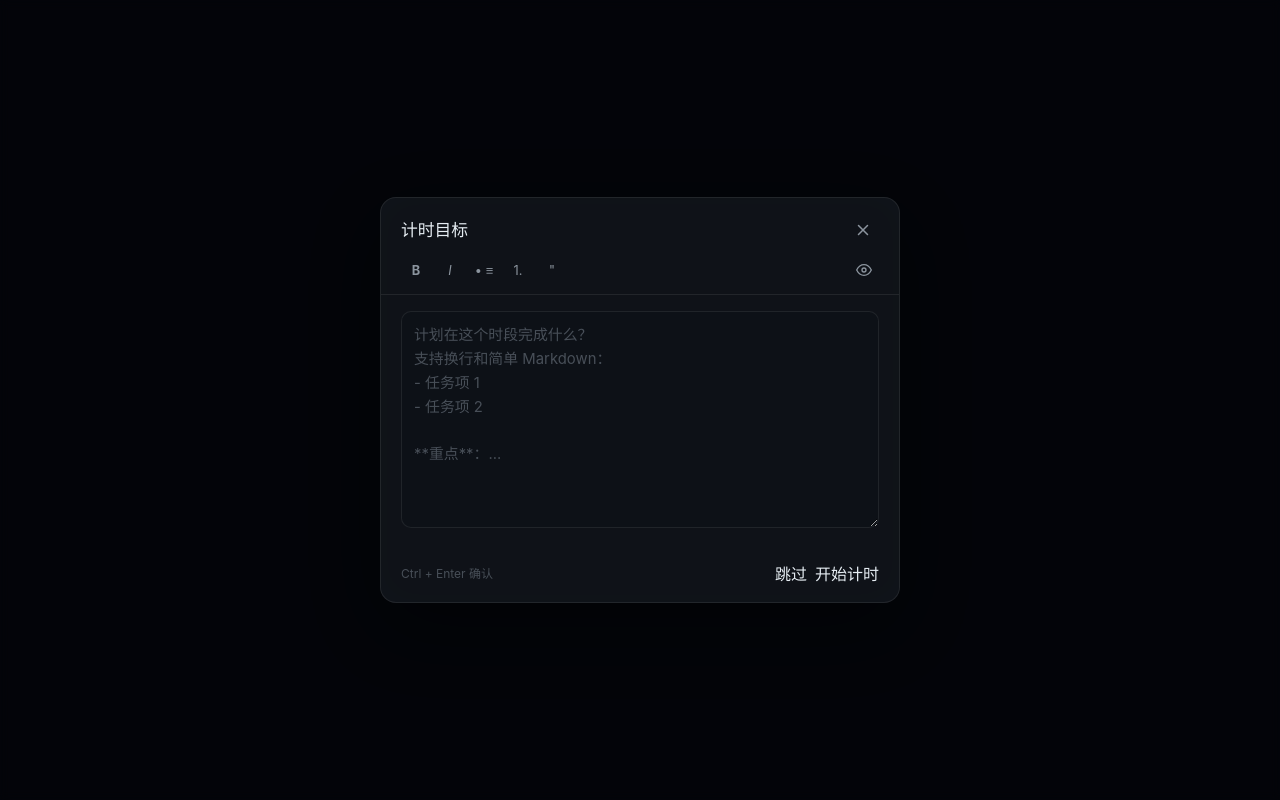
Test: SessionNoteModal 预览 › 点击预览按钮后 textarea 隐藏、预览区显示
Expected: the text box with placeholder "计划在这个时段完成什么？ 支持换行和简单 Markdown： - 任务项 1 - 任务项 2 **重点**：..." is shown, [401, 311, 879, 528]
// 点击最后一个工具栏按钮（预览 eye icon）
Click the 6th button with class "sn-toolbar-btn" at (864, 270), box [849, 256, 879, 284]
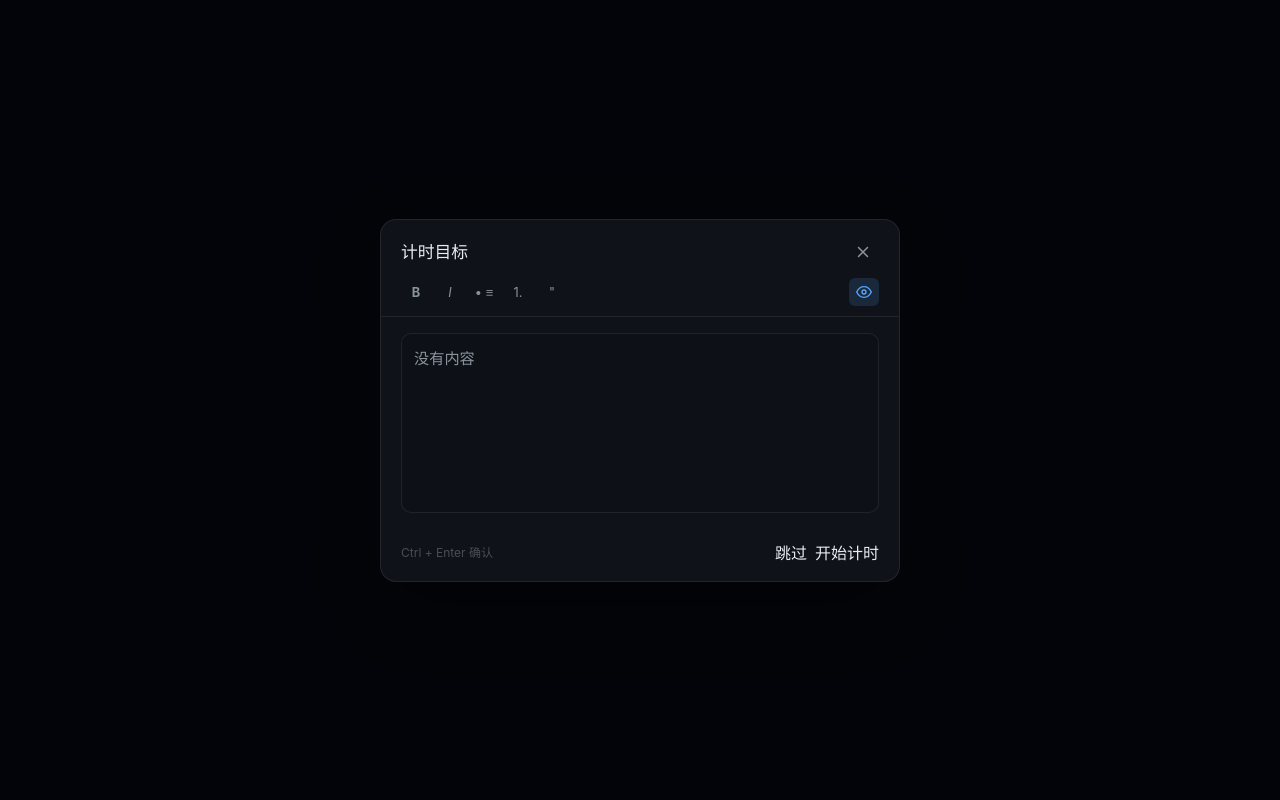
Expected: the element with class "sn-preview" is shown, [401, 332, 879, 512]
